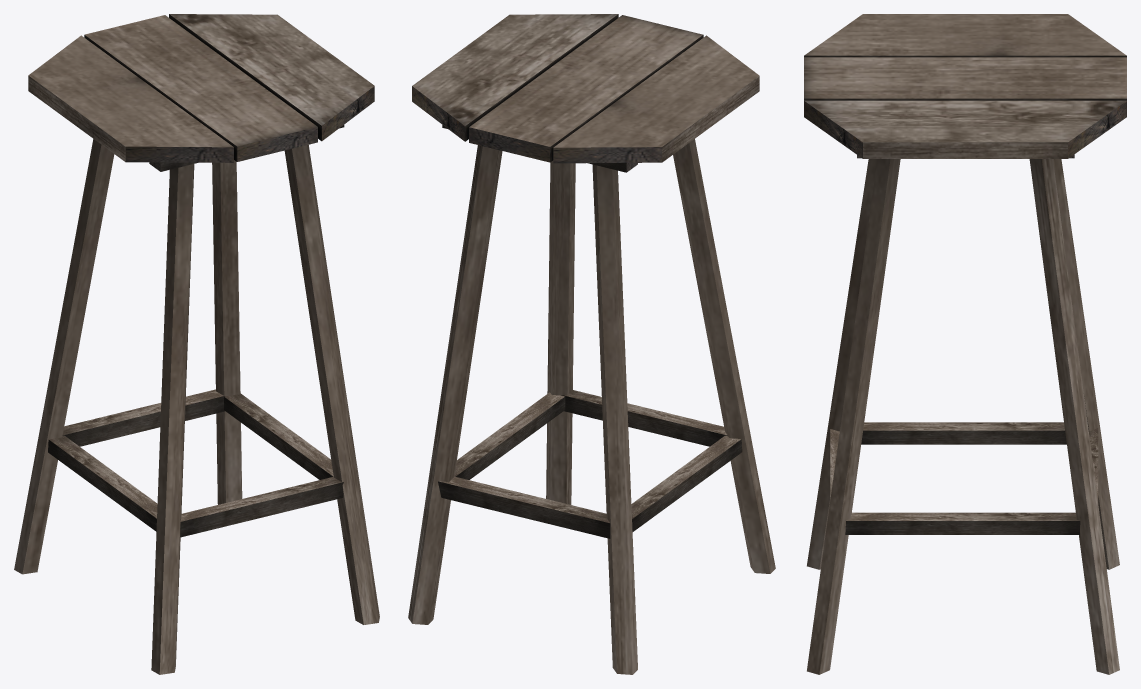
File: Stool.dae
3 renders of one model, left to right at view 1: azimuth 30°, elevation 25°; view 2: azimuth 150°, elevation 25°; view 3: azimuth 270°, elevation 25°, orthographic. The views are drawn at different scales.
Parts seen in each view (by area): view 1: Stool; view 2: Stool; view 3: Stool.
Part boxes in pixels (x1=…): Stool: x1=14, y1=14, x2=379, y2=674; Stool: x1=408, y1=14, x2=775, y2=674; Stool: x1=804, y1=14, x2=1126, y2=674.
Bounding box in the file's own units: 0.3905 × 0.7665 × 0.4147.
Materials: 1 (1 with a texture image).
